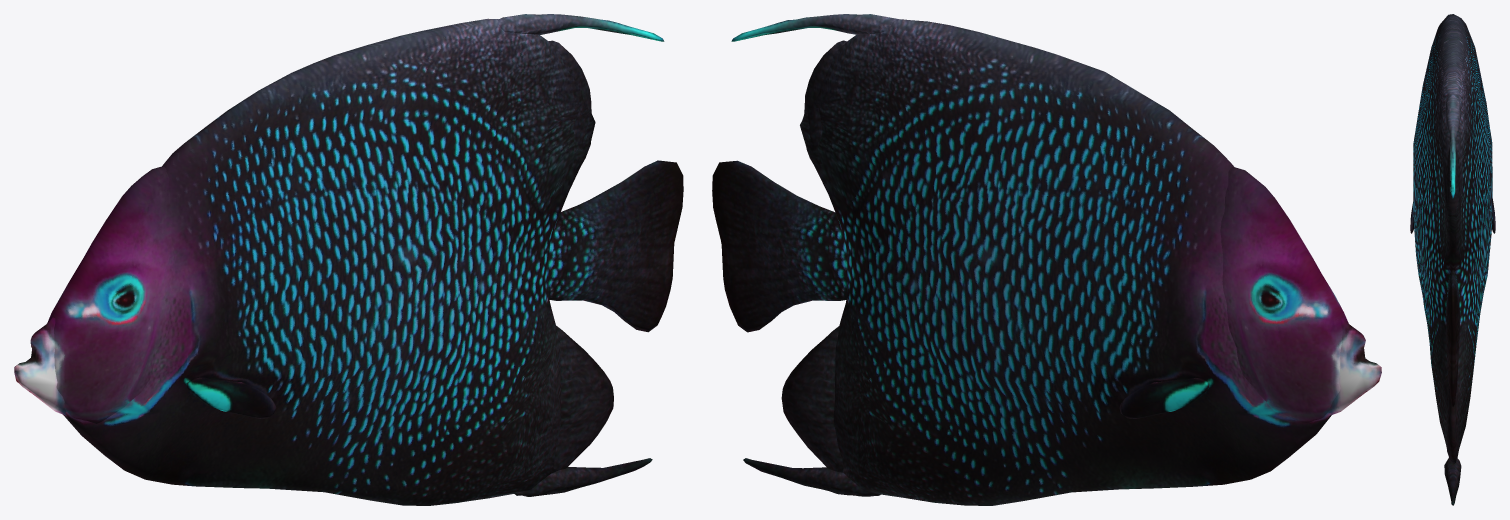
Rendered from fish1.glb.
3 views of the same model, side by side, from view 1: azimuth 30°, elevation 25°; view 2: azimuth 150°, elevation 25°; view 3: azimuth 270°, elevation 25° (orthographic). The views are drawn at different scales.
Parts seen in each view (by area): view 1: model; view 2: model; view 3: model.
Part boxes in pixels (x1,y1,x2,y2): model: (14,14,683,505); model: (712,14,1381,505); model: (1410,14,1495,505).
Size of the model in its own units: 9713 by 6855 by 1439.
1 material, 1 textured.
